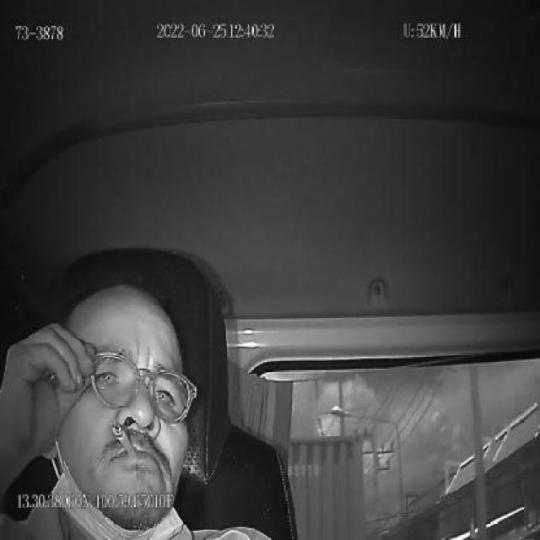smoking: (110, 422, 136, 456)
